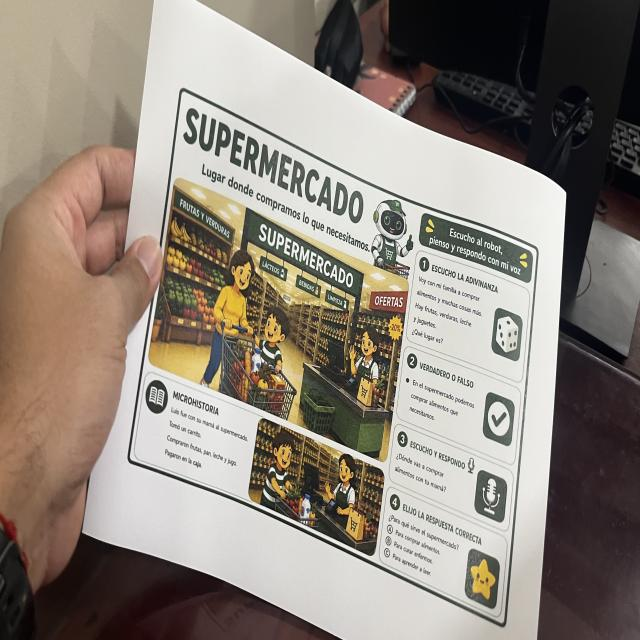supermercado: (124, 82, 543, 635)
